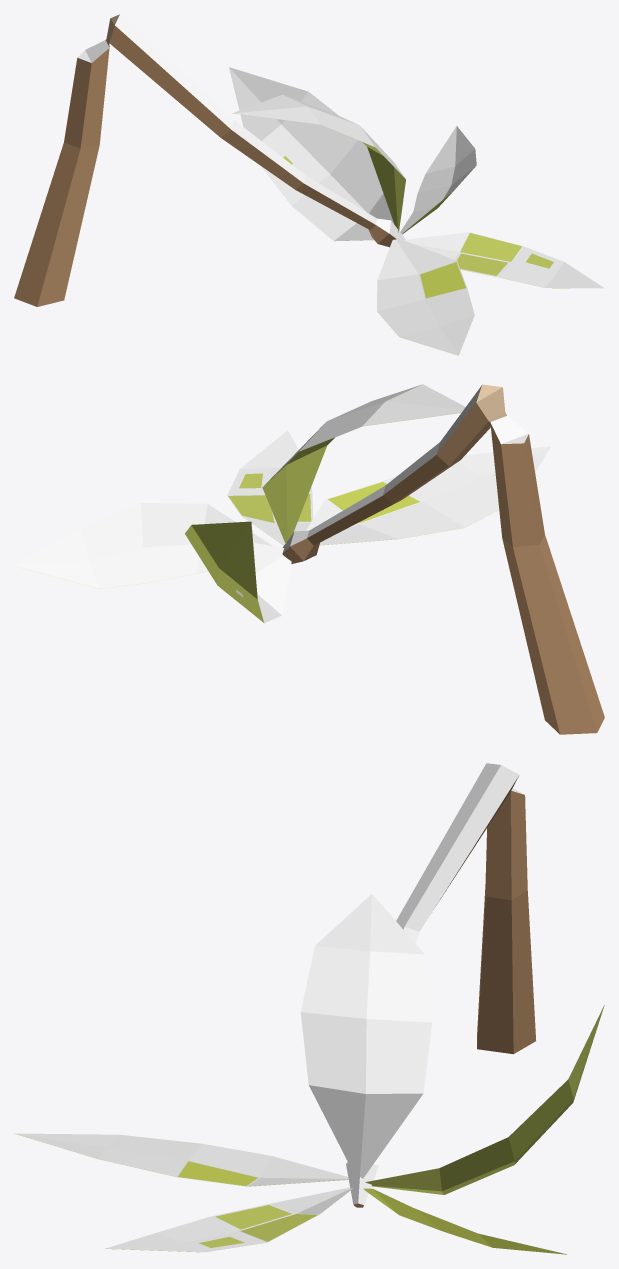
The model's file is Palm_Tree_crk_m_Snow_BT_03.fbx.
The picture shows the model from 3 angles, top to bottom: view 1: azimuth 30°, elevation 25°; view 2: azimuth 150°, elevation 25°; view 3: azimuth 270°, elevation 25°; orthographic projection. The views are drawn at different scales.
Parts seen in each view (by area): view 1: Palm_Tree_crk_m_Snow_BT_03; view 2: Palm_Tree_crk_m_Snow_BT_03; view 3: Palm_Tree_crk_m_Snow_BT_03.
Boxes of the visible parts, x1,y1,x2,y2 form: Palm_Tree_crk_m_Snow_BT_03: (14, 14, 604, 355); Palm_Tree_crk_m_Snow_BT_03: (14, 384, 604, 734); Palm_Tree_crk_m_Snow_BT_03: (14, 763, 604, 1254).
Size of the model in its own units: 452 by 244 by 404.
